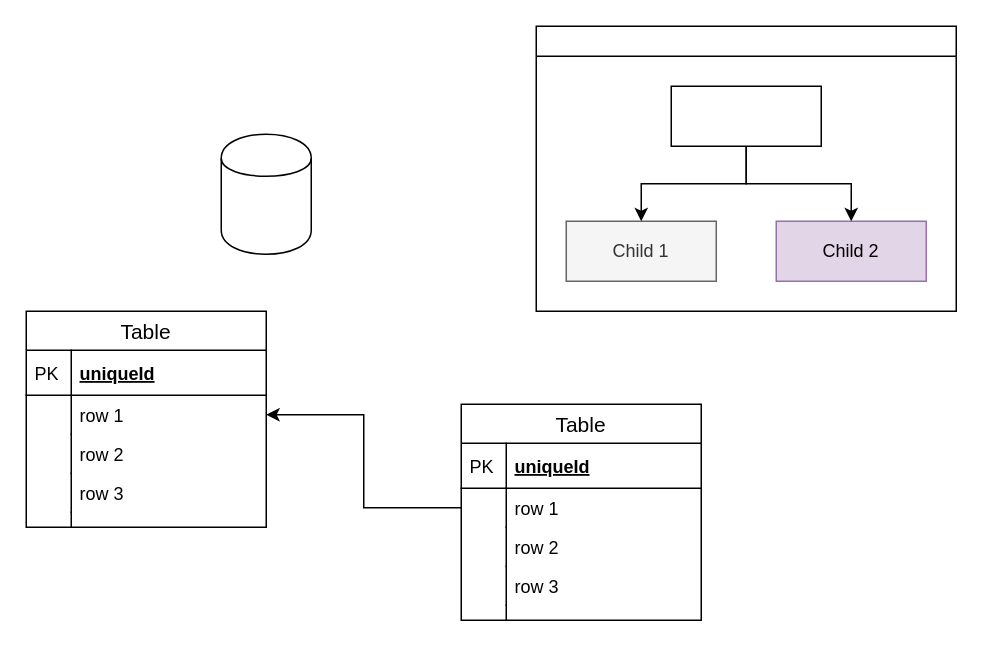
The diagram is 983 pixels wide and 647 high, and some of its shapes have lost their labels. Here are the shapes that lost their labels. From the top down, the box of each, then its label:
(670, 85, 821, 146): Root
(535, 25, 956, 311): Component Tree Layout
